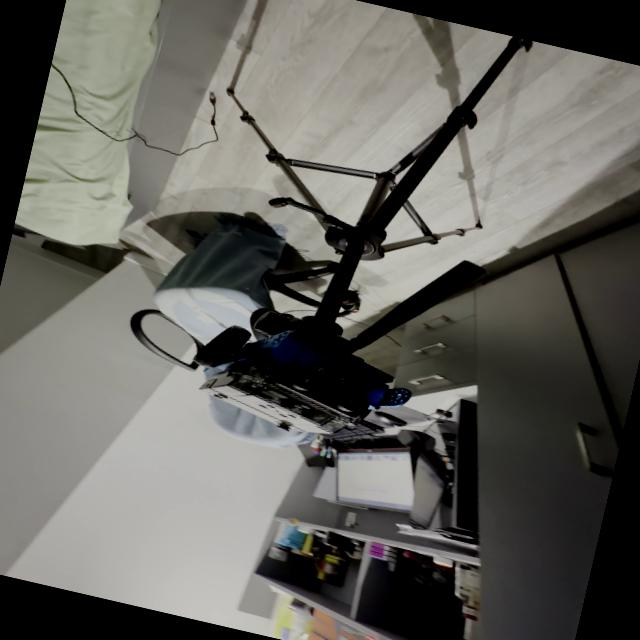mbot-detection: (170, 307, 426, 465)
